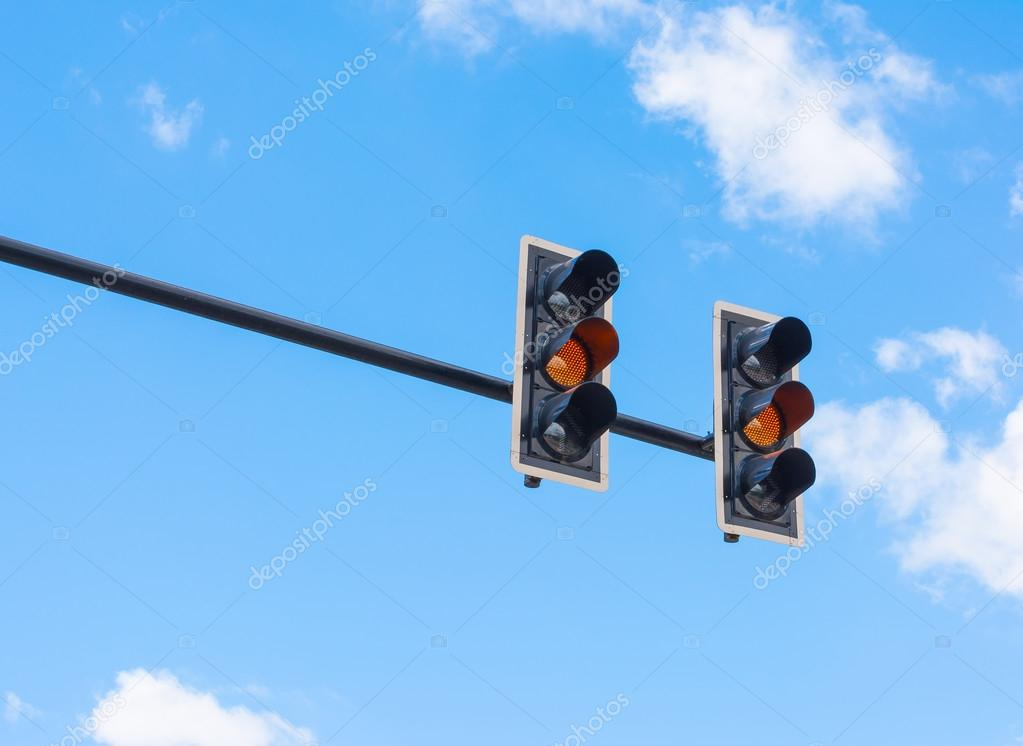traffic light: (447, 199, 667, 552), (701, 246, 841, 619)
